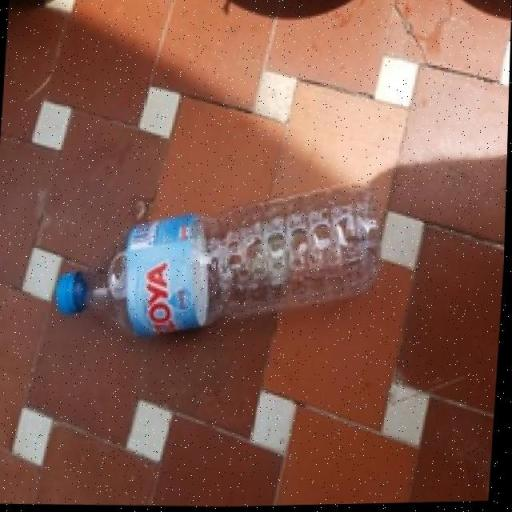plastic: (55, 187, 382, 339)
